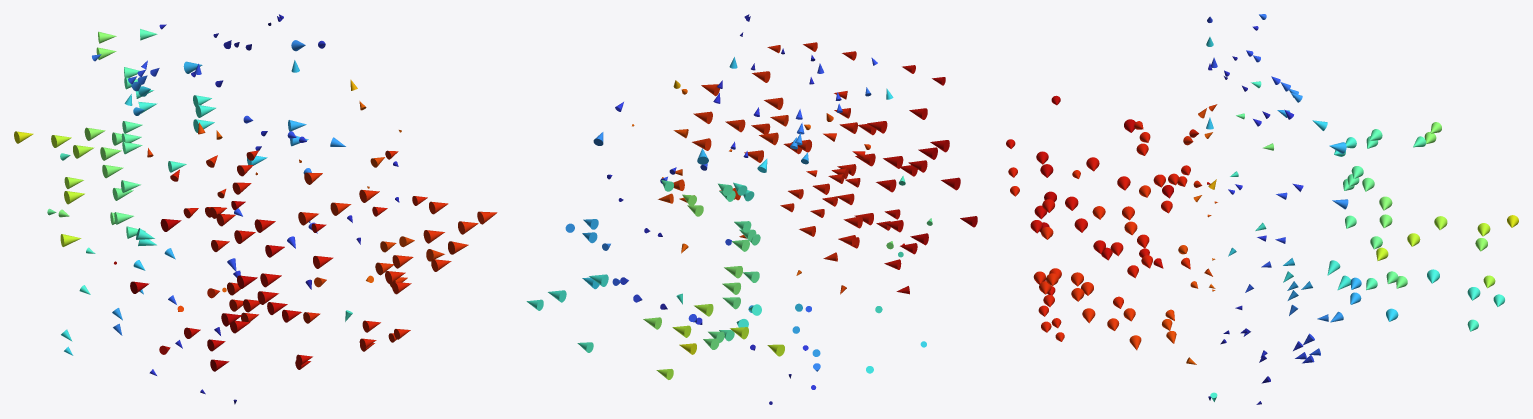
Rendered from LineasCorrienteH2-O2_mh2-1.38_V-0.9.glb.
The picture shows the model from 3 angles, left to right: view 1: azimuth 30°, elevation 25°; view 2: azimuth 150°, elevation 25°; view 3: azimuth 270°, elevation 25°; orthographic projection. The views are drawn at different scales.
Bounding box in the file's own units: 0.000915 × 0.000966 × 0.00123.
2 materials, 2 textured.
